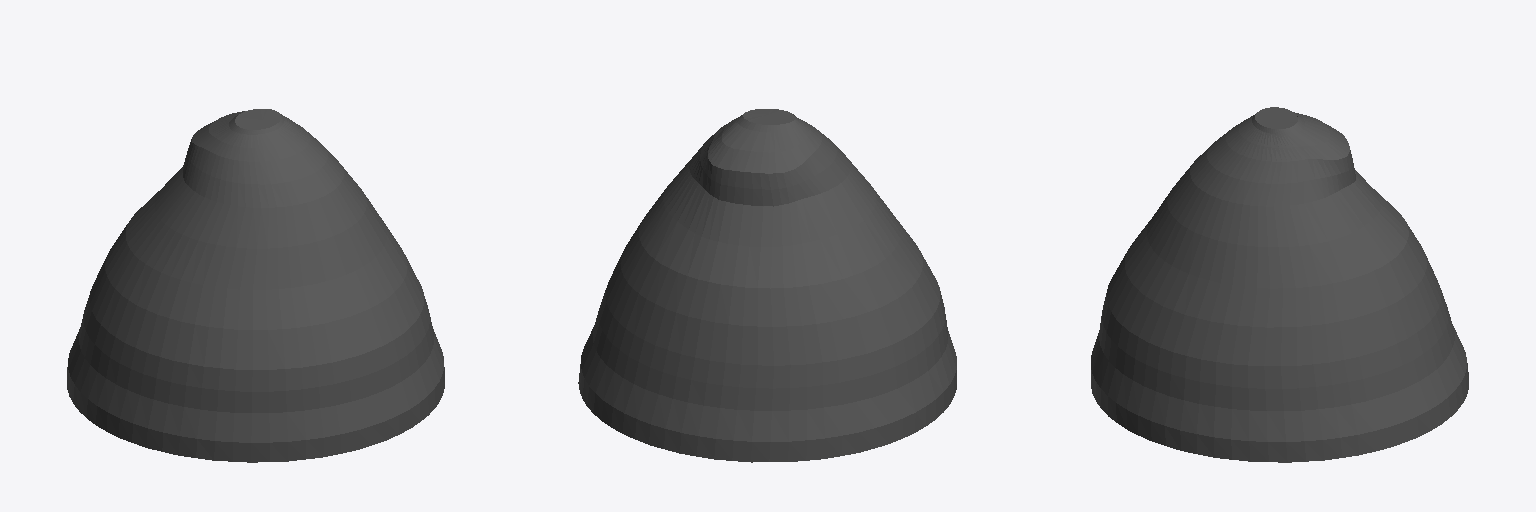
File: buka.obj
3 views of the same model, side by side, from view 1: azimuth 30°, elevation 25°; view 2: azimuth 150°, elevation 25°; view 3: azimuth 270°, elevation 25° (orthographic).
Parts seen in each view (by area): view 1: Cylinder; view 2: Cylinder; view 3: Cylinder.
Boxes of the visible parts, x1=… form: Cylinder: x1=67, y1=109, x2=444, y2=462; Cylinder: x1=578, y1=109, x2=956, y2=462; Cylinder: x1=1091, y1=107, x2=1468, y2=462.
Size of the model in its own units: 1.6 by 1.29 by 1.6.